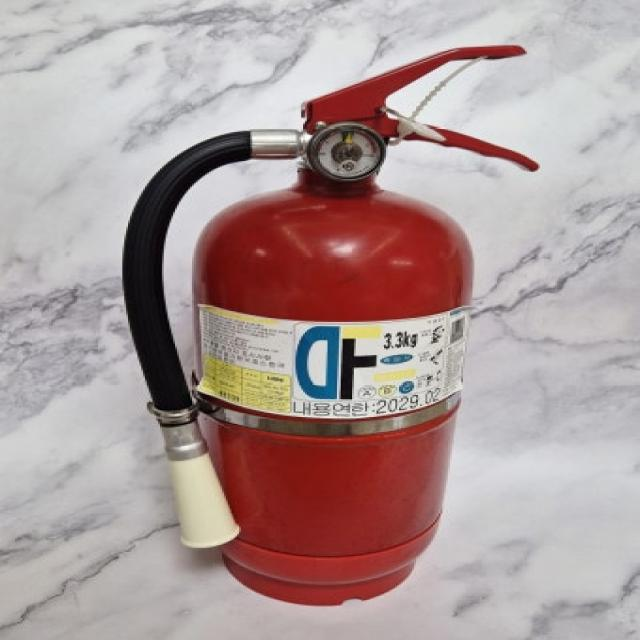pressure gauge: (309, 122, 384, 180)
